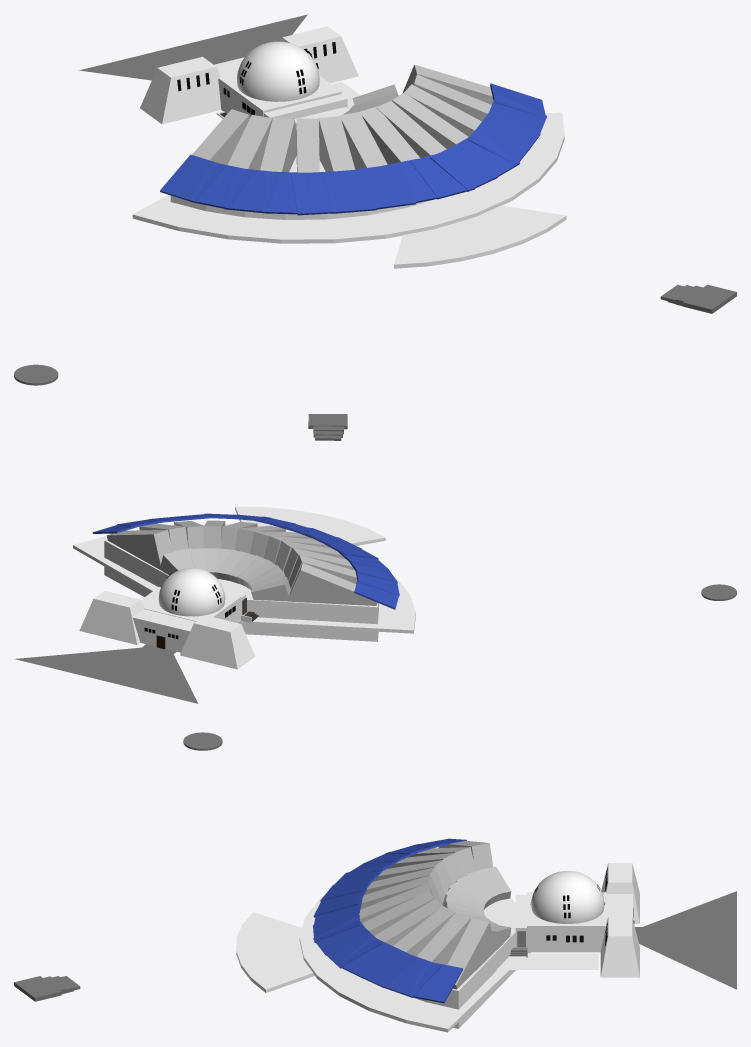
The model's file is nyasta_asmundarsafn.obj.
3 renders of one model, top to bottom at view 1: azimuth 30°, elevation 25°; view 2: azimuth 150°, elevation 25°; view 3: azimuth 270°, elevation 25°, orthographic. The views are drawn at different scales.
Visible parts, largest first — view 1: Cube.047, Cube.033, Cylinder.001, Cylinder.002, Plane, Sphere, h_hlid, v_hlid, innanhus, syningarsalur, Cube, Cube.019 (+1 smaller); view 2: Cube.033, syningarsalur, Plane, Cube.047, Cylinder.001, h_hlid, Sphere, v_hlid, Cylinder.002, adaldyr, Cube, innanhus (+1 smaller); view 3: Cube.033, Cube.047, Plane, Cylinder.001, Cylinder.002, Sphere, innanhus, syningarsalur, v_hlid, Plane.001, h_hlid, Cube (+3 smaller).
Part boxes in pixels (box(x1,y1,x2,y2)): Cube.047: box(160, 83, 547, 215); Cube.033: box(192, 64, 493, 172); Cylinder.001: box(132, 112, 564, 243); Cylinder.002: box(394, 205, 566, 268); Plane: box(79, 14, 307, 80); Sphere: box(236, 41, 319, 101); h_hlid: box(140, 56, 221, 124); v_hlid: box(280, 26, 358, 83); innanhus: box(218, 72, 341, 117); syningarsalur: box(170, 107, 433, 219); Cube: box(660, 284, 736, 313); Cube.019: box(263, 94, 347, 119); Cube.033: box(106, 520, 377, 605); syningarsalur: box(104, 539, 378, 641); Plane: box(15, 644, 198, 703); Cube.047: box(92, 513, 399, 609); Cylinder.001: box(73, 536, 415, 633); h_hlid: box(180, 615, 255, 669); Sphere: box(158, 568, 225, 616); v_hlid: box(79, 590, 144, 644); Cylinder.002: box(235, 506, 385, 545); adaldyr: box(132, 609, 195, 652); Cube: box(308, 414, 347, 440); innanhus: box(144, 592, 241, 622); Cube.033: box(359, 841, 511, 989); Cube.047: box(313, 838, 466, 1003); Plane: box(635, 891, 736, 989); Cylinder.001: box(299, 896, 530, 1032); Cylinder.002: box(236, 912, 314, 992); Sphere: box(531, 870, 604, 923); innanhus: box(527, 892, 607, 952); syningarsalur: box(414, 898, 515, 1028); v_hlid: box(600, 917, 639, 977); Plane.001: box(496, 953, 598, 969); h_hlid: box(601, 863, 639, 923); Cube: box(14, 976, 80, 1001).
Bounding box in the file's own units: 71.2 × 9.13 × 73.85.
